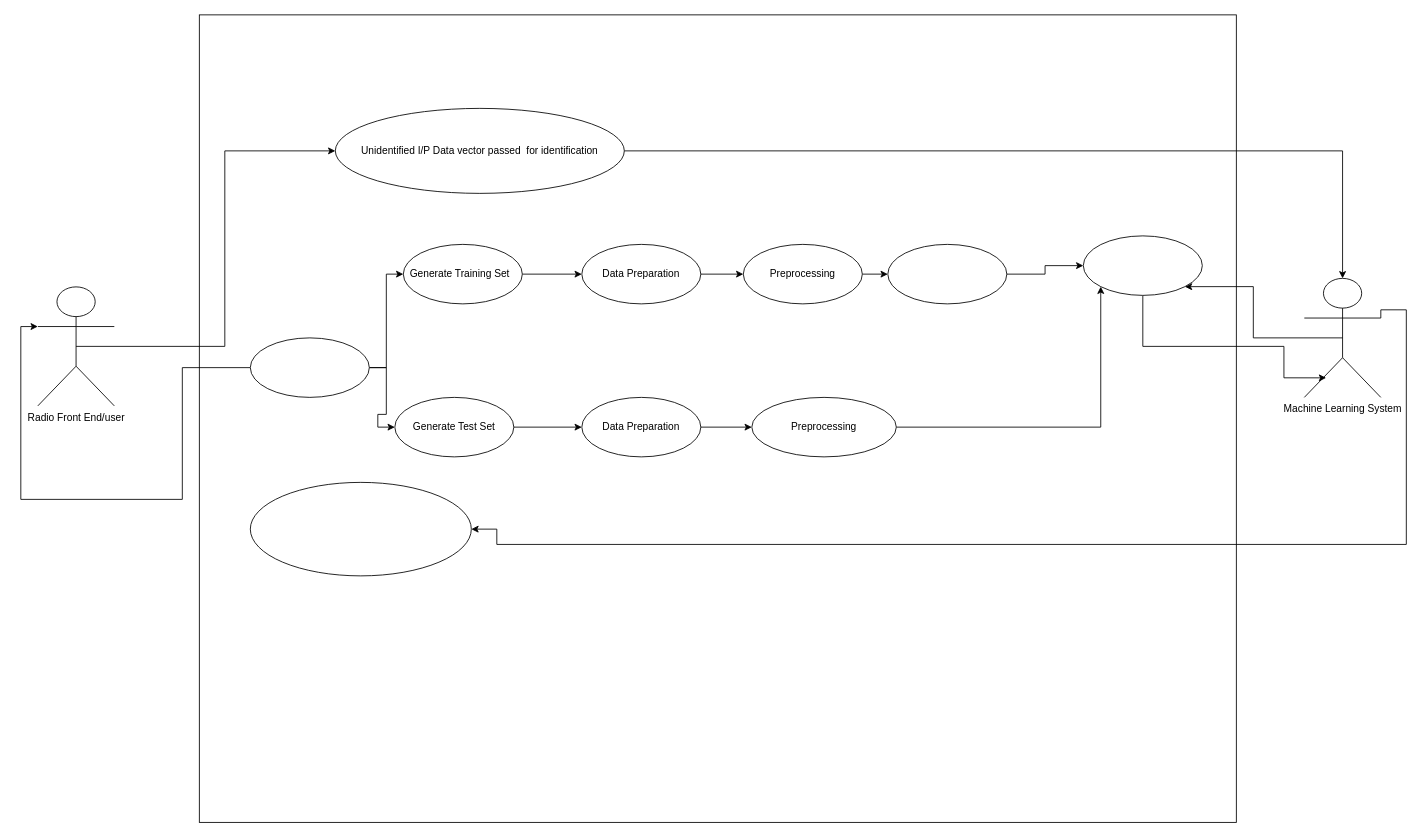
Some shapes in this 1428 by 837 pixel diagram are drawn without their labels. The shapes that lost their labels are listed below. From the top down, each one's centre as x and y in pixels, then its label:
the point at 947,274: Build Network
the point at 1142,265: Train Network
the point at 309,367: Split Dataset
the point at 360,529: Output Modulation Type Probability
